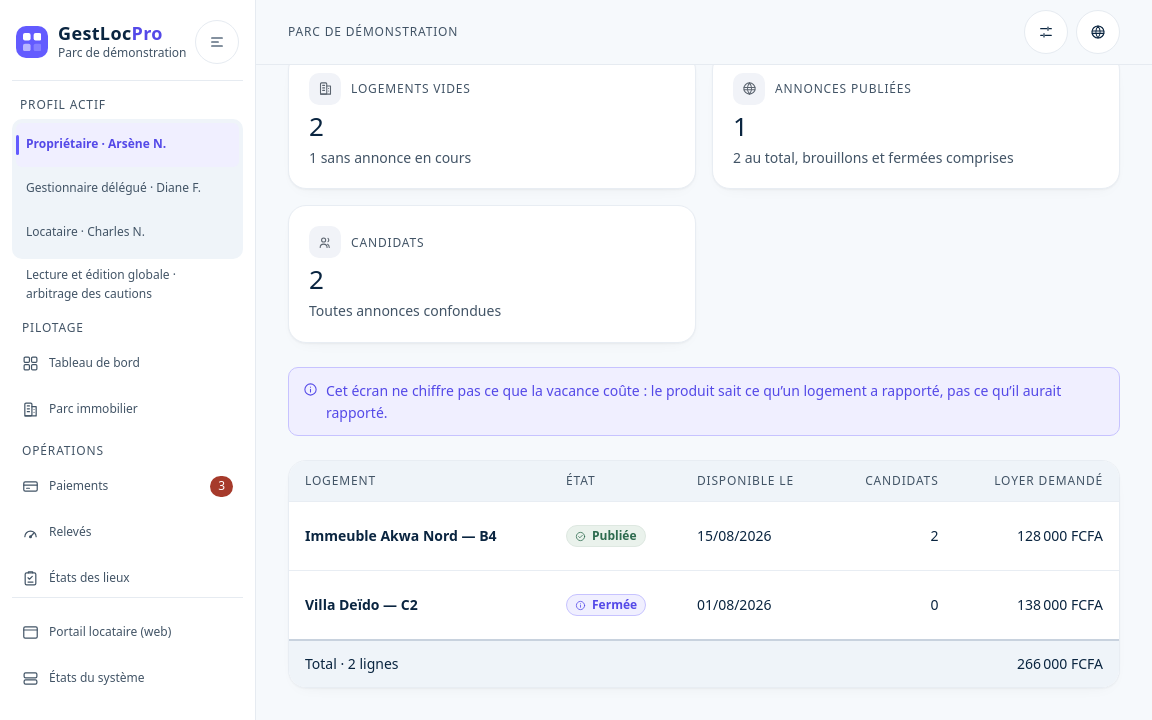
Scenario: la vacance du parc › OUVRE LA BOÎTE D’UNE ANNONCE SUR SES CANDIDATS
The image size is (1152, 720).
(page scrolled)
Click the button "Immeuble Akwa Nord — B4" at (420, 536), box [305,514,534,558]
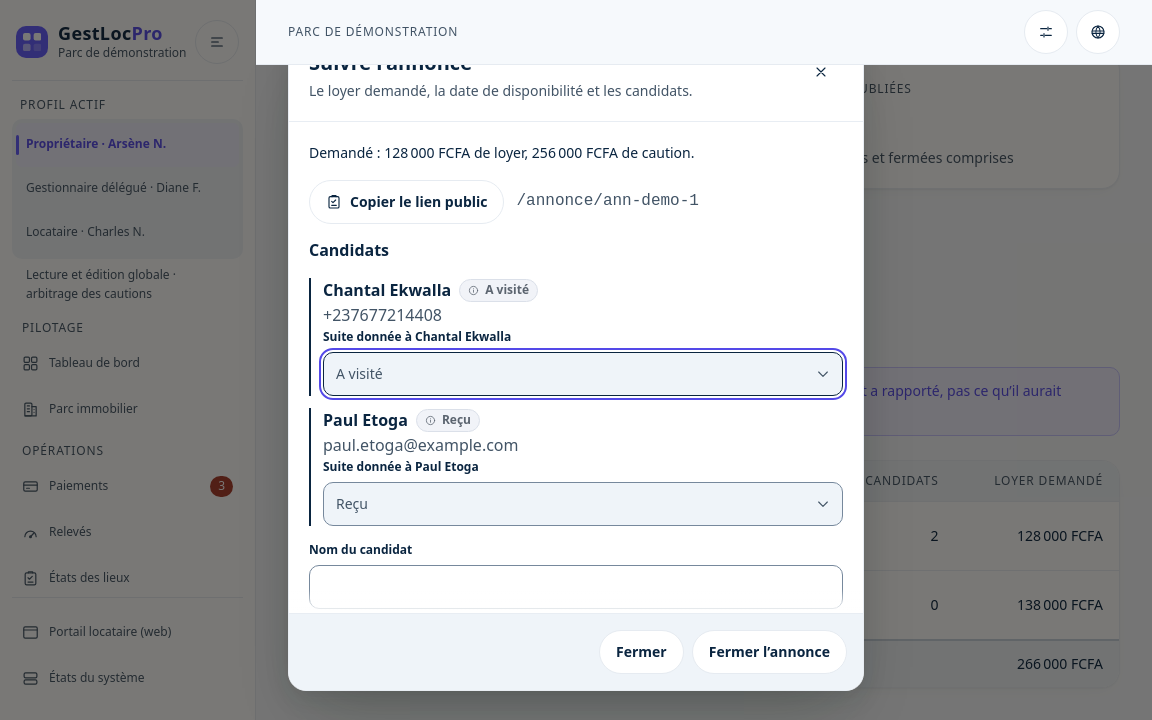
Result: the text "Chantal Ekwalla" is shown at [323,278,451,303]
Result: the dropdown labelled "Suite donnée à Chantal Ekwalla" is shown at [323,352,843,396]
